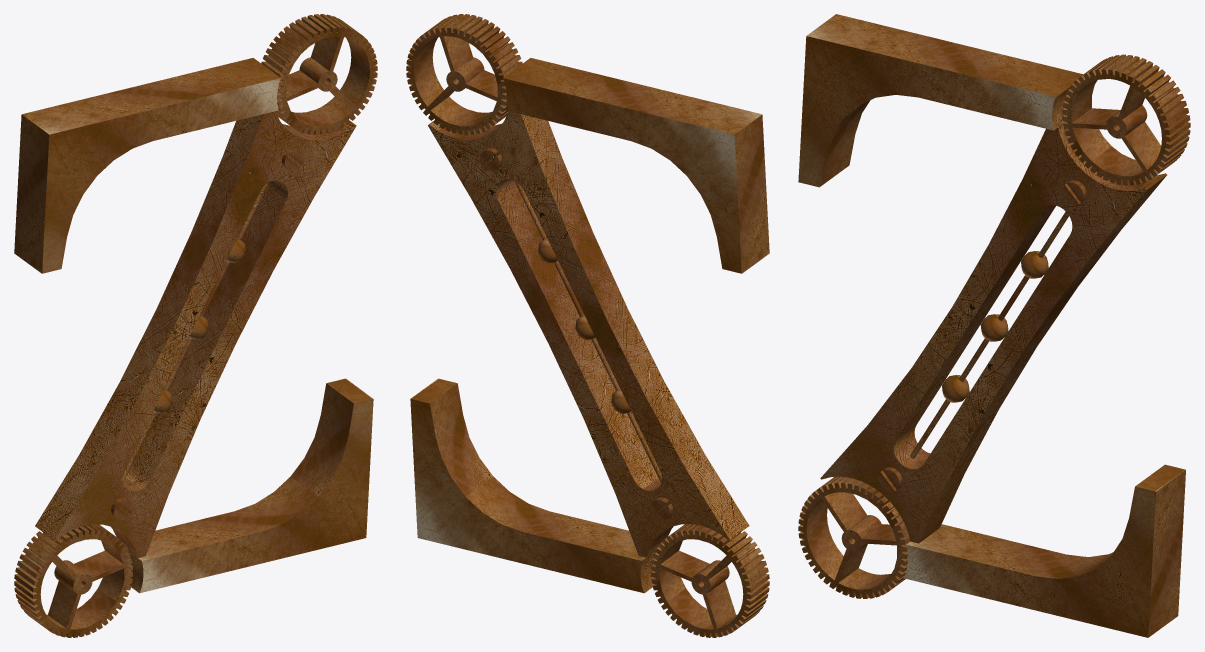
3 renders of one model, left to right at view 1: azimuth 30°, elevation 25°; view 2: azimuth 150°, elevation 25°; view 3: azimuth 330°, elevation 25°, orthographic. The views are drawn at different scales.
Parts seen in each view (by area): view 1: Z, Cogwheel_312, Cogwheel_311, Tube_505; view 2: Z, Cogwheel_312, Cogwheel_311, Tube_505; view 3: Z, Cogwheel_311, Cogwheel_312, Tube_505, Sphere_080, Sphere_081, Sphere_076.
Part boxes in pixels (x1,y1,x2,y2): Z: [14, 58, 373, 593]; Cogwheel_312: [14, 524, 132, 637]; Cogwheel_311: [261, 14, 377, 135]; Tube_505: [122, 182, 268, 482]; Z: [410, 58, 769, 593]; Cogwheel_312: [651, 524, 769, 637]; Cogwheel_311: [406, 14, 522, 135]; Tube_505: [514, 182, 661, 483]; Z: [798, 14, 1185, 637]; Cogwheel_311: [1062, 54, 1190, 185]; Cogwheel_312: [798, 476, 910, 598]; Tube_505: [910, 211, 1068, 458]; Sphere_080: [1021, 251, 1048, 278]; Sphere_081: [942, 375, 969, 402]; Sphere_076: [980, 314, 1008, 341].
Size of the model in its own units: 71.56 by 109 by 10.
Materials: 1 (1 with a texture image).
